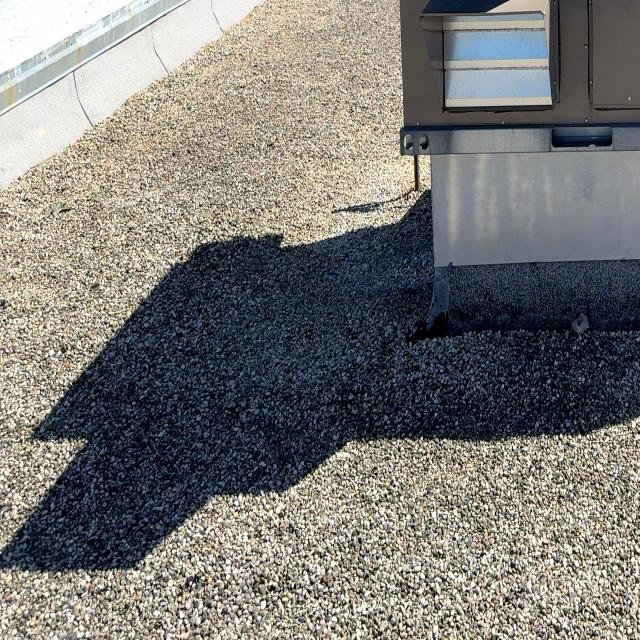RTU: (387, 0, 640, 230)
